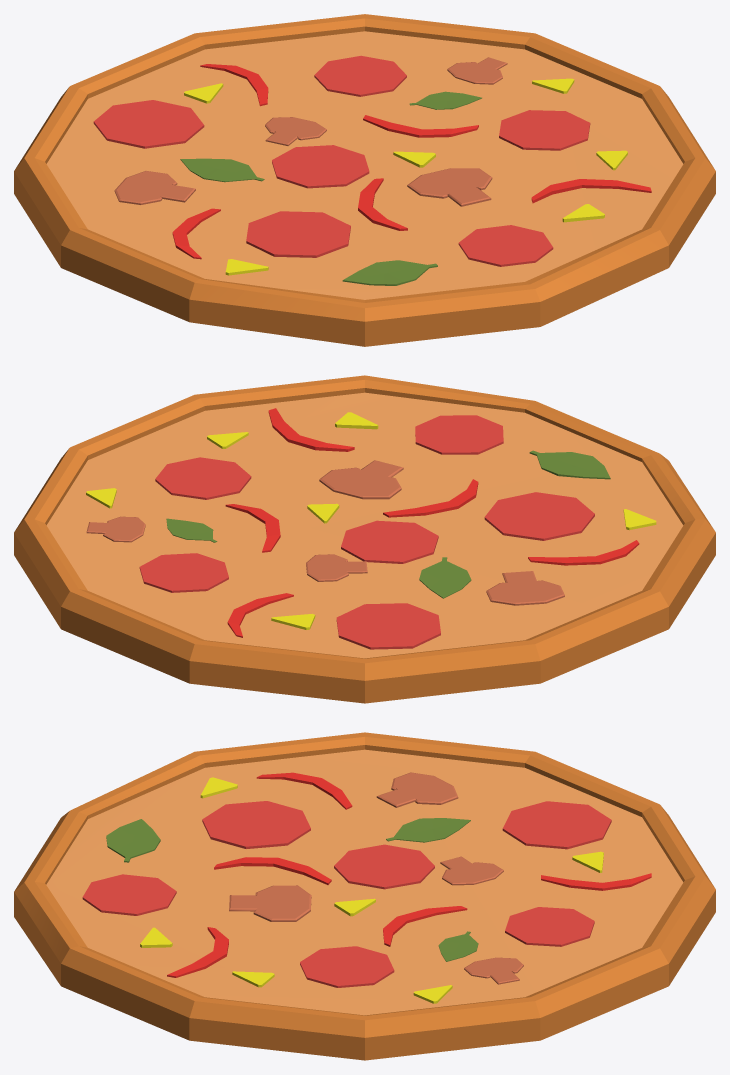
Rendered from PizzaFood_01.fbx.
The picture shows the model from 3 angles, top to bottom: view 1: azimuth 30°, elevation 25°; view 2: azimuth 150°, elevation 25°; view 3: azimuth 270°, elevation 25°; orthographic projection.
Visible parts, largest first — view 1: PizzaFood_01; view 2: PizzaFood_01; view 3: PizzaFood_01.
Boxes of the visible parts, box(x1,y1,x2,y2) form: PizzaFood_01: box(14, 14, 715, 346); PizzaFood_01: box(14, 375, 715, 703); PizzaFood_01: box(14, 732, 715, 1060).
Size of the model in its own units: 25.56 by 1.63 by 25.56.
